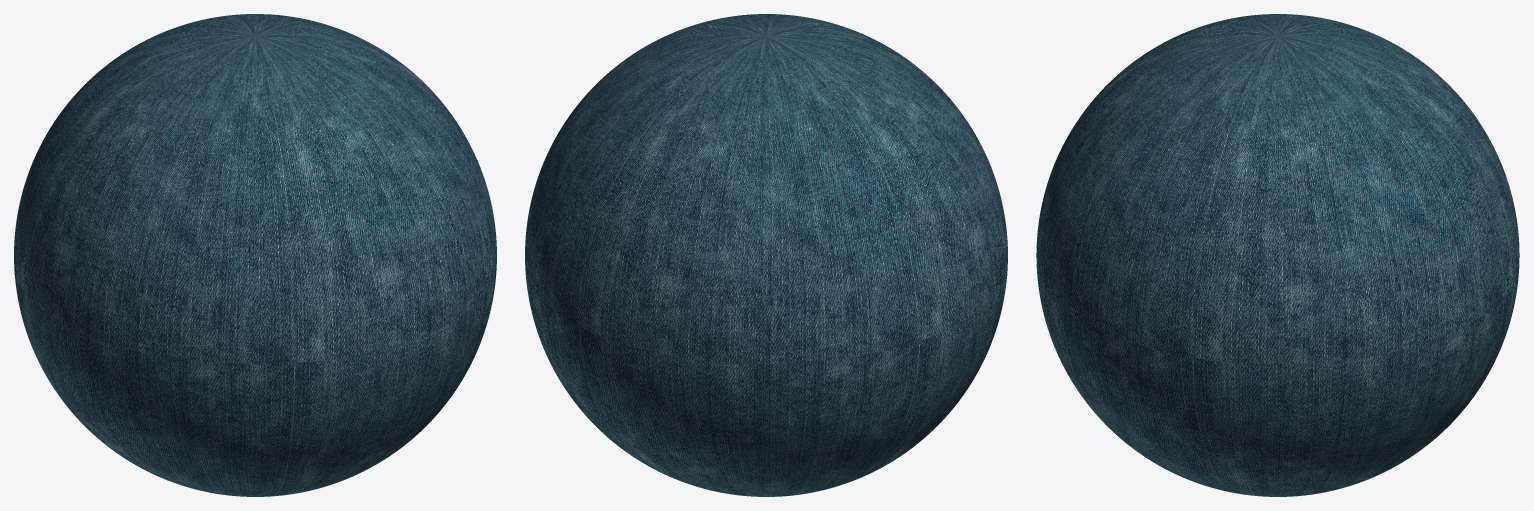
File: denmin_fabric_02_1k.gltf
3 renders of one model, left to right at view 1: azimuth 30°, elevation 25°; view 2: azimuth 150°, elevation 25°; view 3: azimuth 270°, elevation 25°, orthographic.
Parts seen in each view (by area): view 1: sphere_gltf; view 2: sphere_gltf; view 3: sphere_gltf.
Boxes of the visible parts, x1,y1,x2,y2 form: sphere_gltf: (14,14,496,496); sphere_gltf: (525,14,1007,496); sphere_gltf: (1036,14,1519,496).
Size of the model in its own units: 0.1 by 0.1 by 0.1.
1 material, 1 textured.
